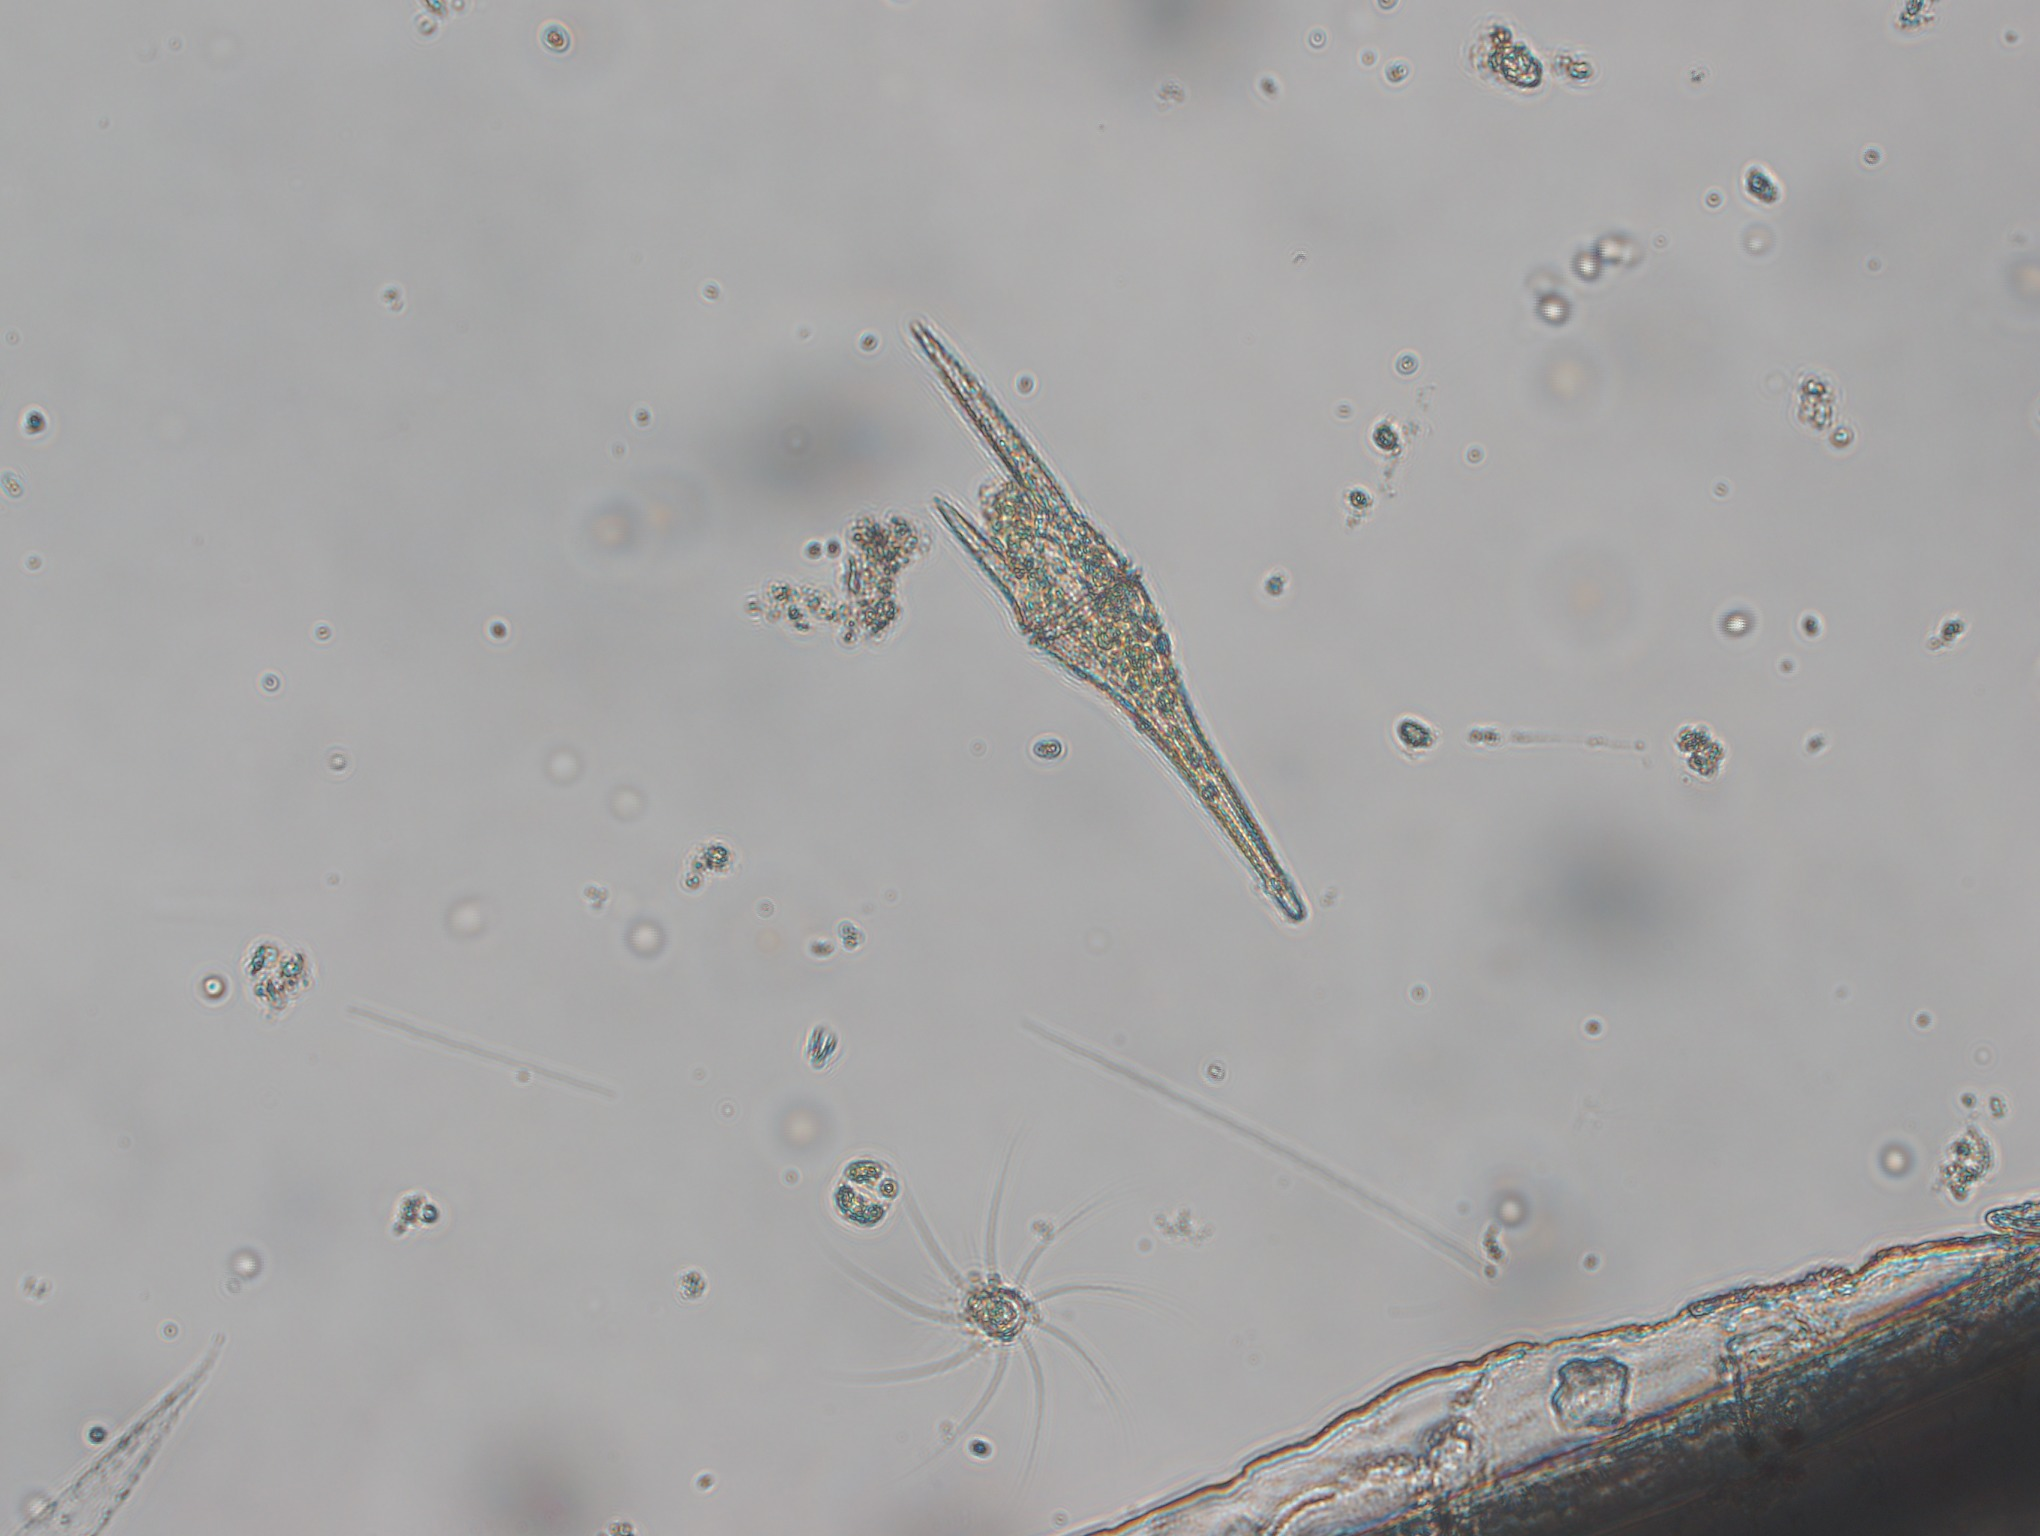bacteriastrum: (871, 1175, 1135, 1476)
ceratium furca: (908, 316, 1330, 941)
